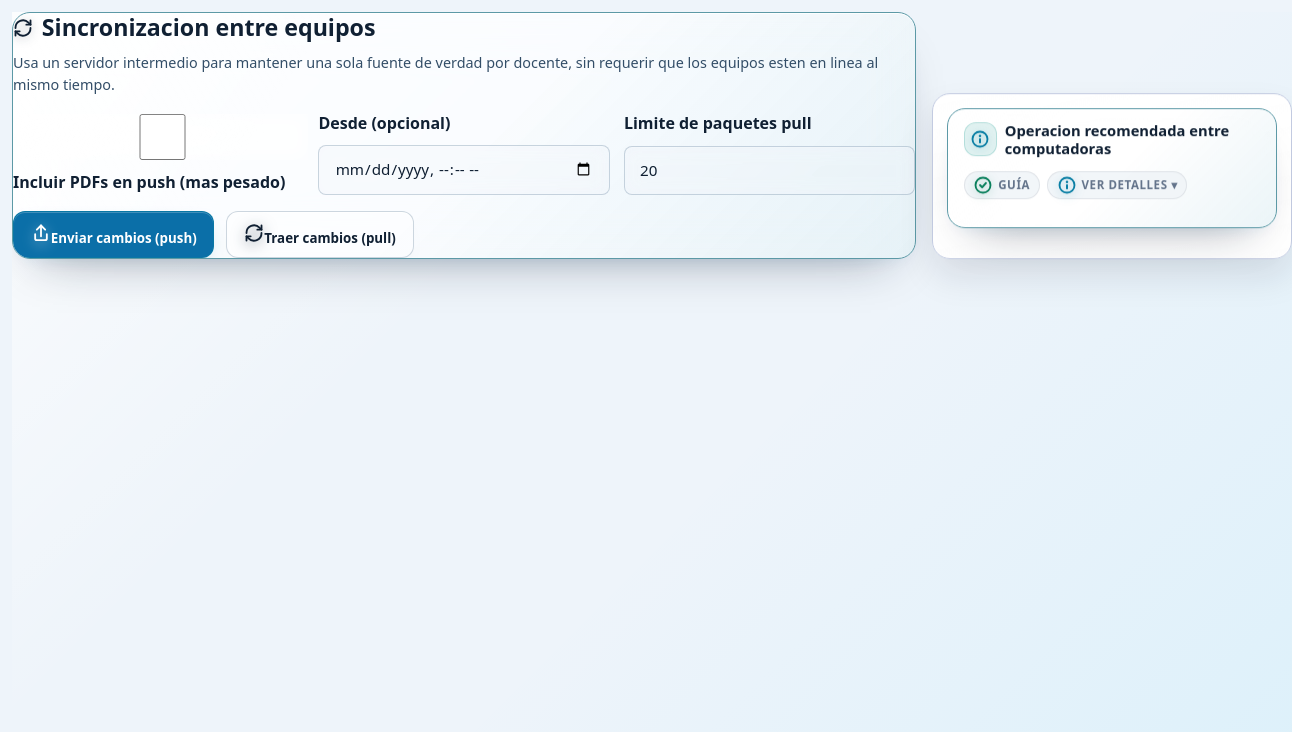
Scenario: SeccionSincronizacionEquipos › permite enviar cambios (push) al servidor intermedio con PDFs opcionales
Click the checkbox labelled "Incluir PDFs en push (mas pesado)" at (163, 137), box [17,114,308,160]
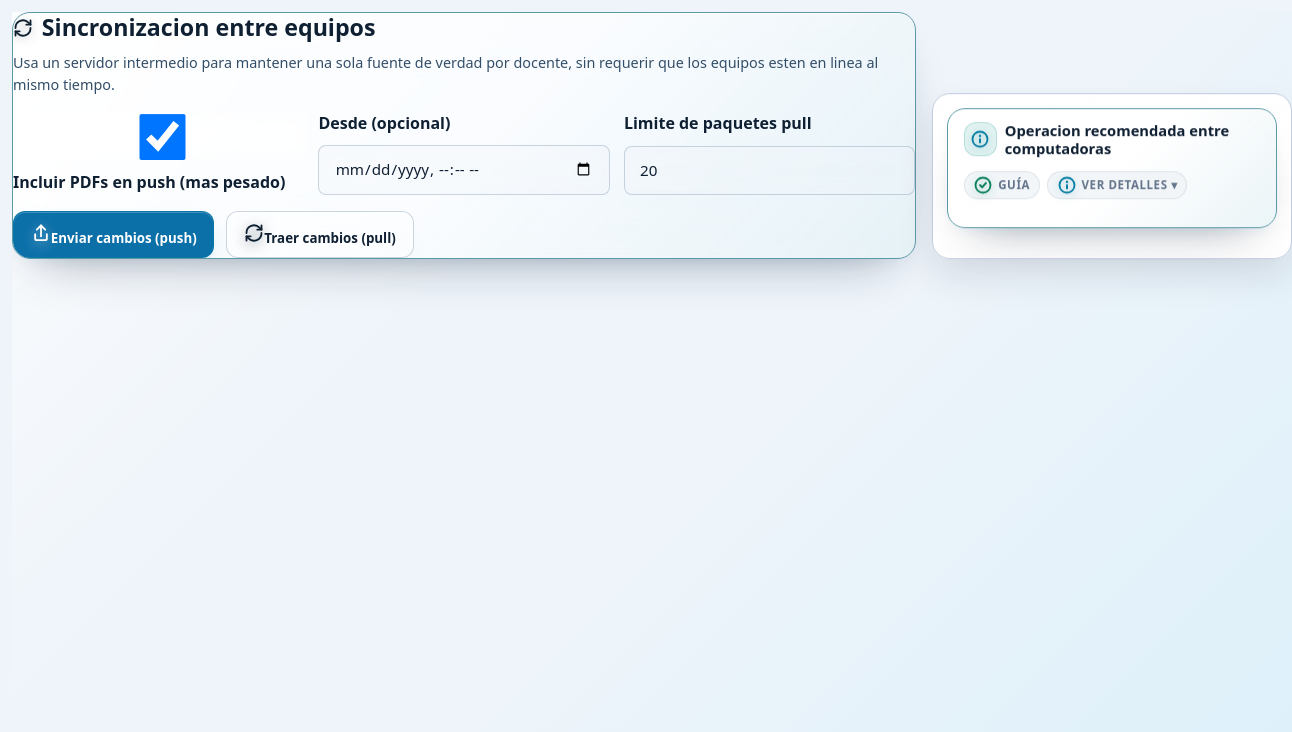
Click the button "Enviar cambios (push)" at (114, 235), box [13,211,214,258]
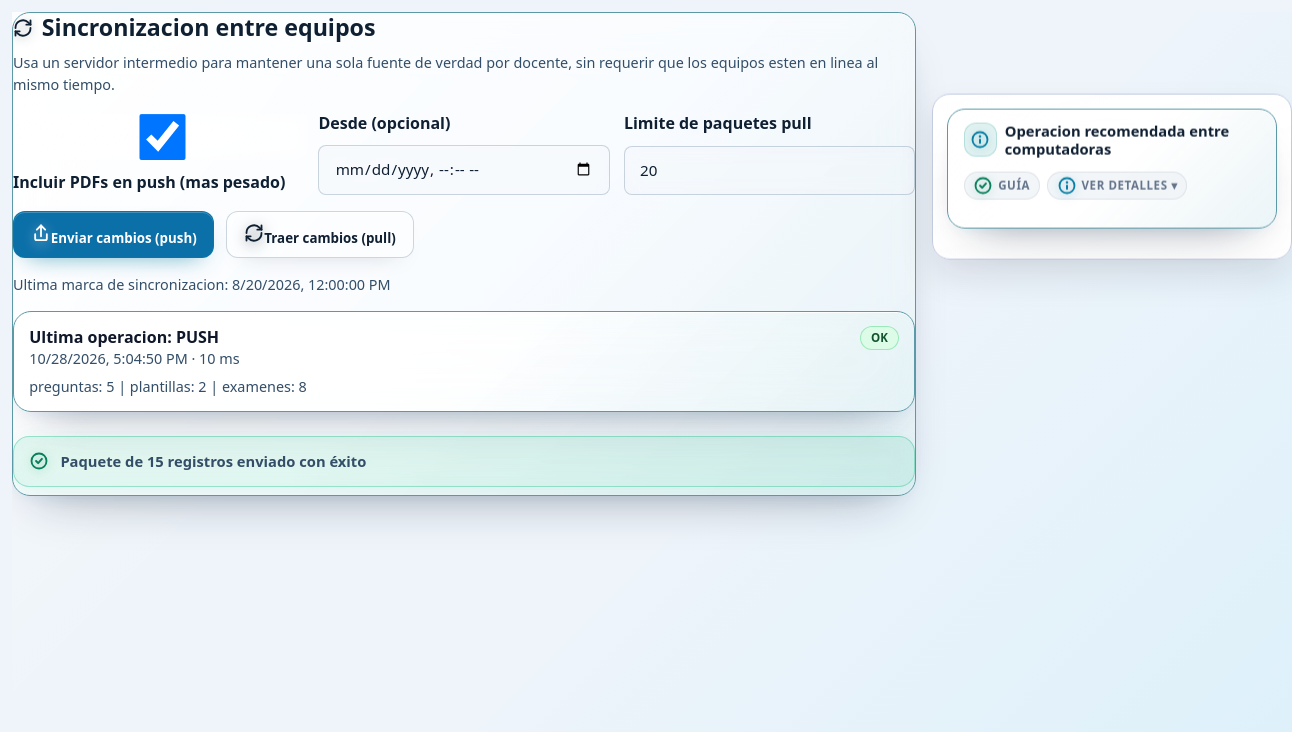
Result: the text "Paquete de 15 registros enviado con éxito" is shown at [60,451,366,471]
